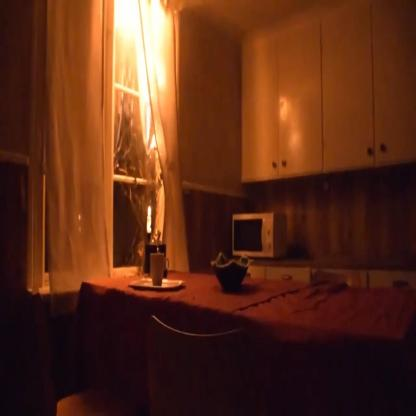fire: (114, 0, 179, 159), (147, 204, 151, 216)
